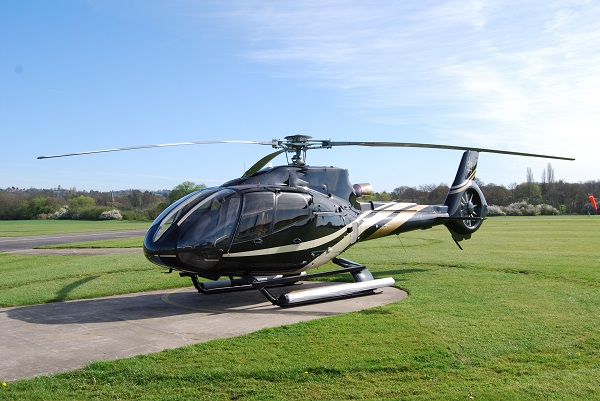Helicopter: (79, 128, 537, 307)
